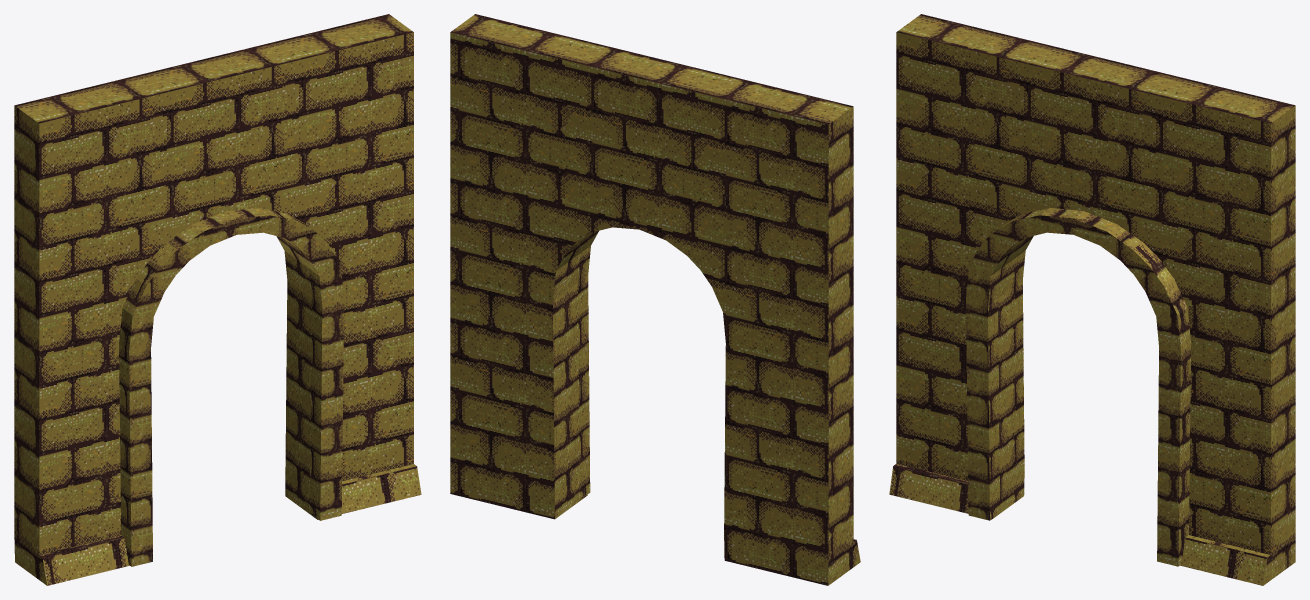
The model's file is vegg_dor.fbx.
The picture shows the model from 3 angles, left to right: view 1: azimuth 30°, elevation 25°; view 2: azimuth 150°, elevation 25°; view 3: azimuth 330°, elevation 25°; orthographic projection.
Visible parts, largest first — view 1: vegg_m_do1; view 2: vegg_m_do1; view 3: vegg_m_do1.
Boxes of the visible parts, x1,y1,x2,y2 form: vegg_m_do1: (14,14,421,585); vegg_m_do1: (450,14,860,585); vegg_m_do1: (889,14,1295,585).
Size of the model in its own units: 7.85 by 9.15 by 1.27.
